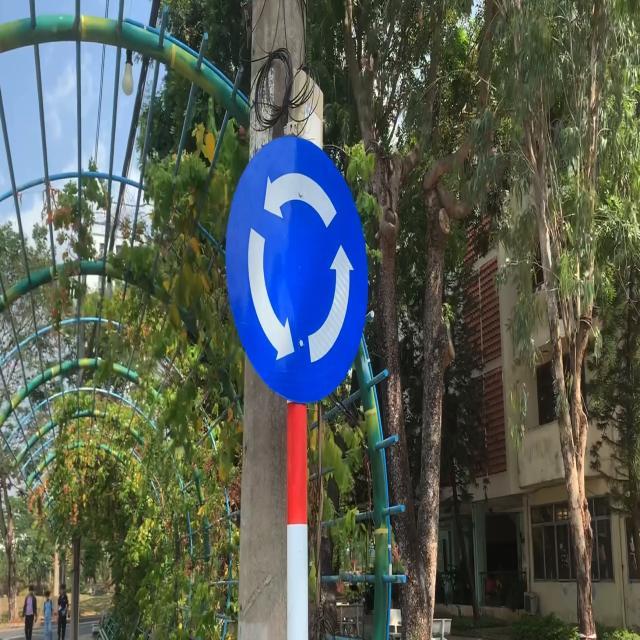Vong xuyen: (226, 134, 370, 406)
